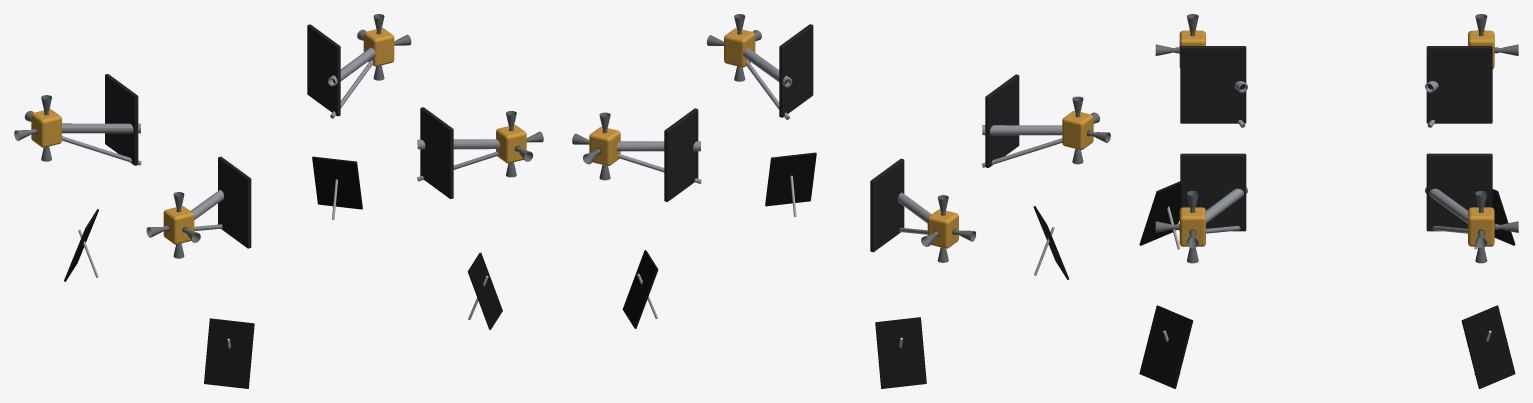
Rendered from apollo-rcs.glb.
The picture shows the model from 3 angles, left to right: view 1: azimuth 30°, elevation 25°; view 2: azimuth 150°, elevation 25°; view 3: azimuth 270°, elevation 25°; orthographic projection. The views are drawn at different scales.
Visible parts, largest first — view 1: RCS_QUADS, PLUME_DEFLECTORS_Pel_cula_negra_H_film_Kapton_negro_, RCS_QUADS_Aluminio_anodizado_gris; view 2: RCS_QUADS, PLUME_DEFLECTORS_Pel_cula_negra_H_film_Kapton_negro_, RCS_QUADS_Aluminio_anodizado_gris; view 3: RCS_QUADS, PLUME_DEFLECTORS_Pel_cula_negra_H_film_Kapton_negro_, RCS_QUADS_Aluminio_anodizado_gris.
Boxes of the visible parts, <box> form: RCS_QUADS: <box>14,14,543,258</box>; PLUME_DEFLECTORS_Pel_cula_negra_H_film_Kapton_negro_: <box>64,156,502,388</box>; RCS_QUADS_Aluminio_anodizado_gris: <box>61,47,500,230</box>; RCS_QUADS: <box>572,14,1110,262</box>; PLUME_DEFLECTORS_Pel_cula_negra_H_film_Kapton_negro_: <box>622,152,1069,388</box>; RCS_QUADS_Aluminio_anodizado_gris: <box>616,48,1062,234</box>; RCS_QUADS: <box>1155,14,1518,263</box>; PLUME_DEFLECTORS_Pel_cula_negra_H_film_Kapton_negro_: <box>1139,181,1515,388</box>; RCS_QUADS_Aluminio_anodizado_gris: <box>1206,81,1467,233</box>.
Size of the model in its own units: 4.1 by 1.94 by 3.15.
